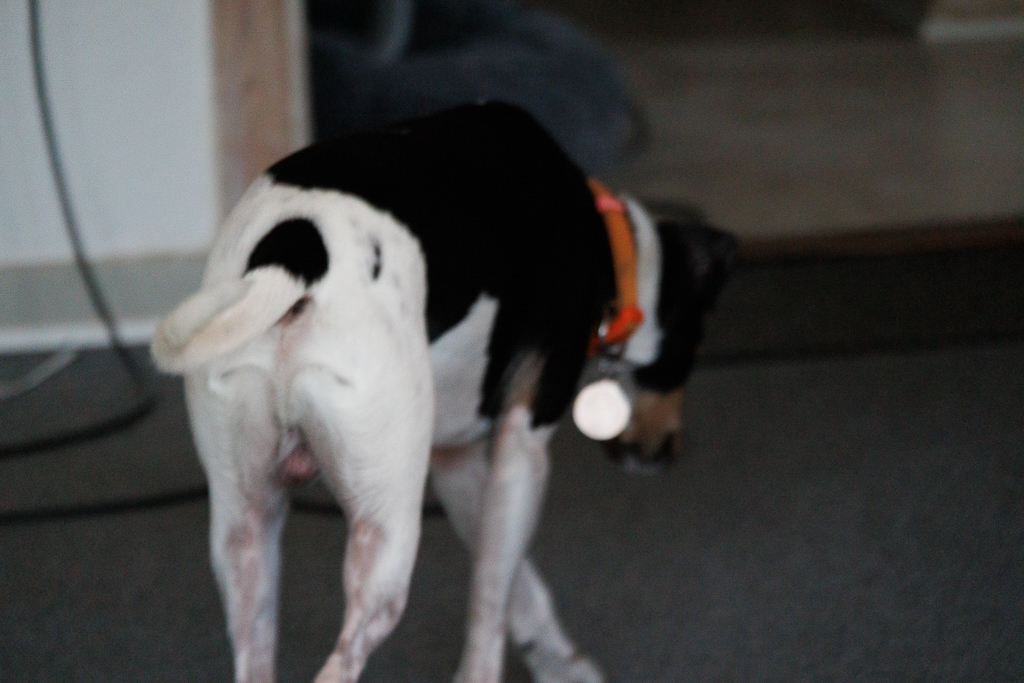Dog: (144, 94, 747, 682)
